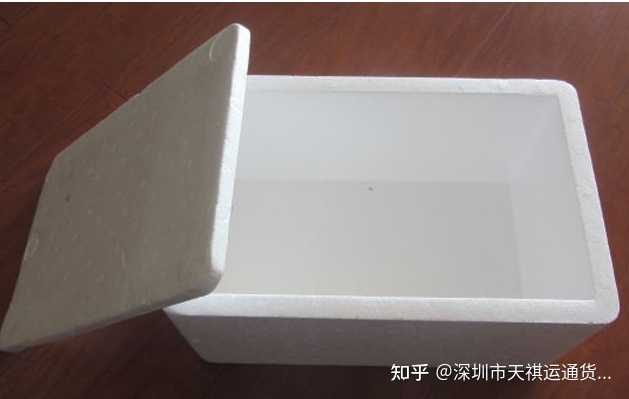泡沫箱: (2, 31, 617, 363)
